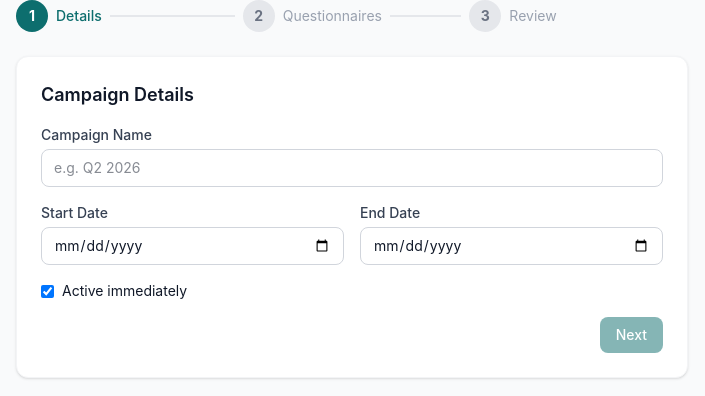
CampaignCreatePage › can go back from step 2 to step 1
This screenshot has width=705, height=396.
Type "Test Campaign" into the field with placeholder "e.g. Q2 2026" at (352,168), box top-left (41, 149), bottom-right (663, 187)
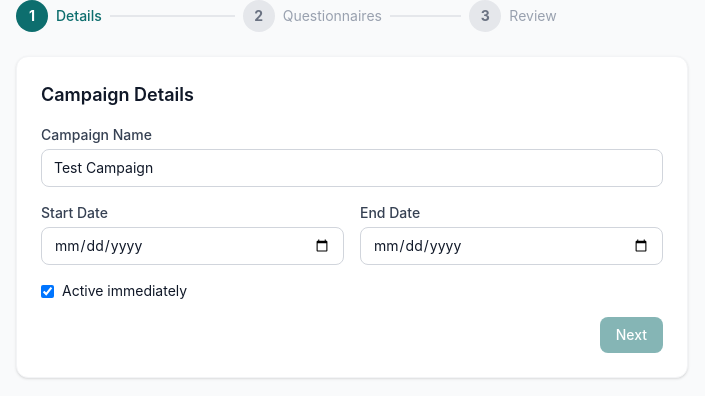
Type "2026-01-01" into the date field below "Start Date" at (192,246), box top-left (41, 227), bottom-right (344, 265)
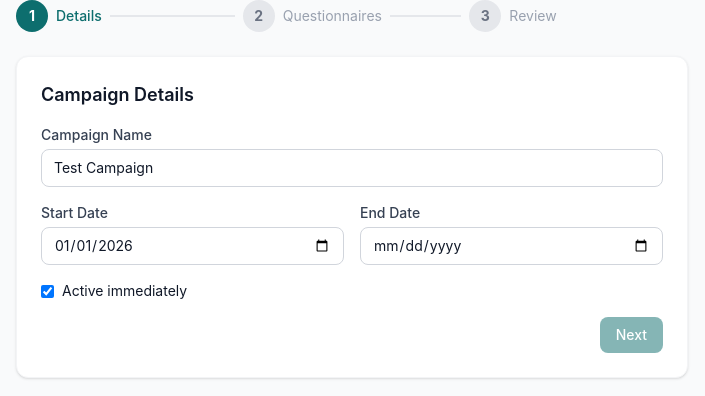
Type "2026-03-31" into the date field below "End Date" at (512,246), box top-left (360, 227), bottom-right (663, 265)
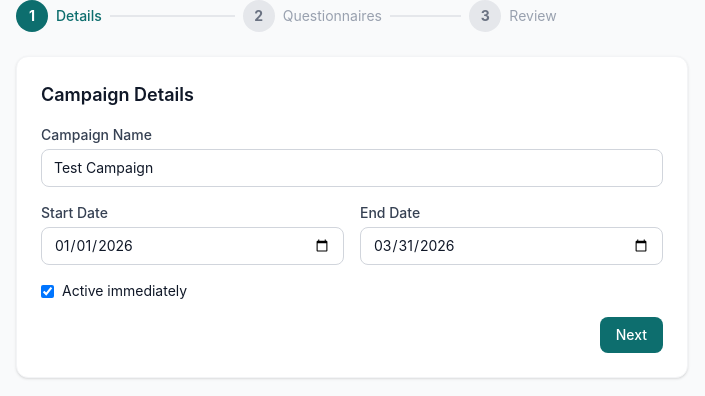
Click the button "Next" at (631,335), box top-left (600, 317), bottom-right (663, 353)
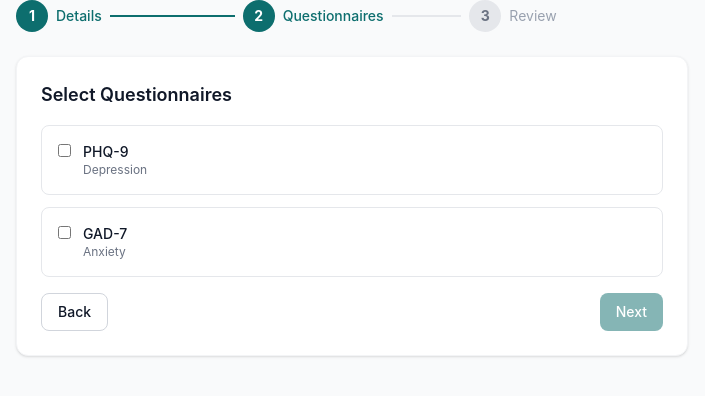
Result: the heading "Select Questionnaires" is shown at top-left (41, 84), bottom-right (232, 105)
Click the button "Back" at (75,312), box top-left (41, 293), bottom-right (108, 331)
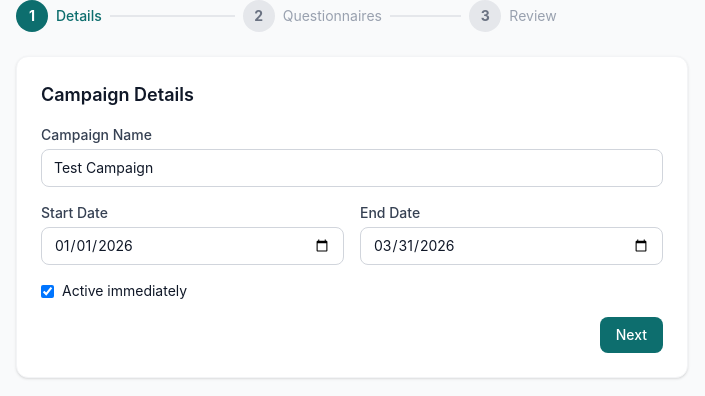
Result: the heading "Campaign Details" is shown at top-left (41, 84), bottom-right (194, 105)
